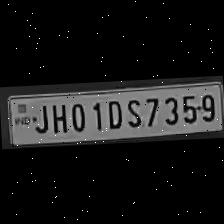0: (66, 98, 88, 132)
1: (86, 97, 106, 131)
3: (160, 92, 180, 125)
5: (178, 90, 198, 124)
7: (140, 94, 160, 128)
9: (196, 90, 218, 122)
D: (102, 96, 124, 130)
H: (46, 99, 68, 133)
J: (29, 100, 49, 134)
S: (122, 95, 142, 129)
